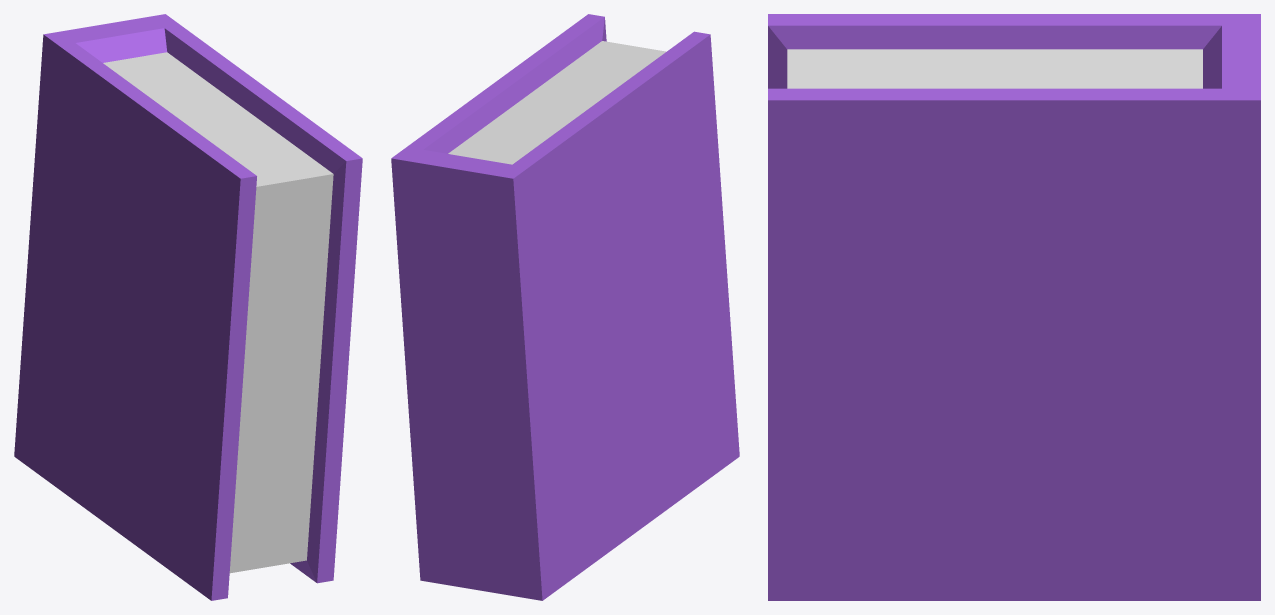
The model's file is Libros.023.fbx.
3 renders of one model, left to right at view 1: azimuth 30°, elevation 25°; view 2: azimuth 150°, elevation 25°; view 3: azimuth 270°, elevation 25°, orthographic. The views are drawn at different scales.
Visible parts, largest first — view 1: Libros.023; view 2: Libros.023; view 3: Libros.023.
Boxes of the visible parts, x1,y1,x2,y2 form: Libros.023: (14, 14, 362, 600); Libros.023: (391, 14, 739, 600); Libros.023: (768, 14, 1260, 600).
Bounding box in the file's own units: 13.05 × 34.97 × 29.46.
